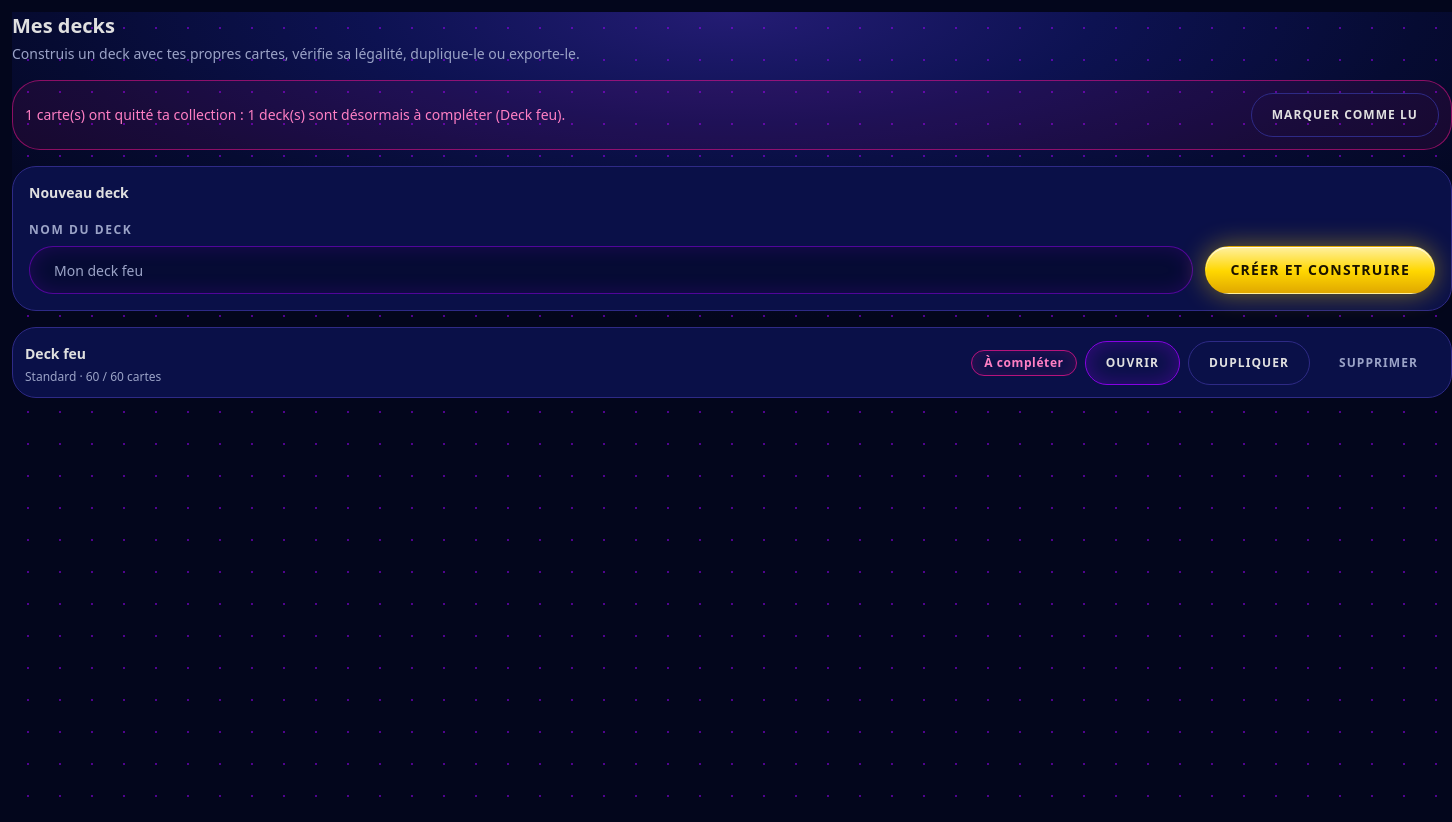
DecksListView › affiche un bandeau d'alertes de collection et le referme quand on marque lu
Expected: the message with test id "deck-alerts-notice" shows "Deck feu", left=500, top=105, right=557, bottom=124
Click the button "Marquer comme lu".
click(1345, 115)  # box left=1251, top=93, right=1439, bottom=137
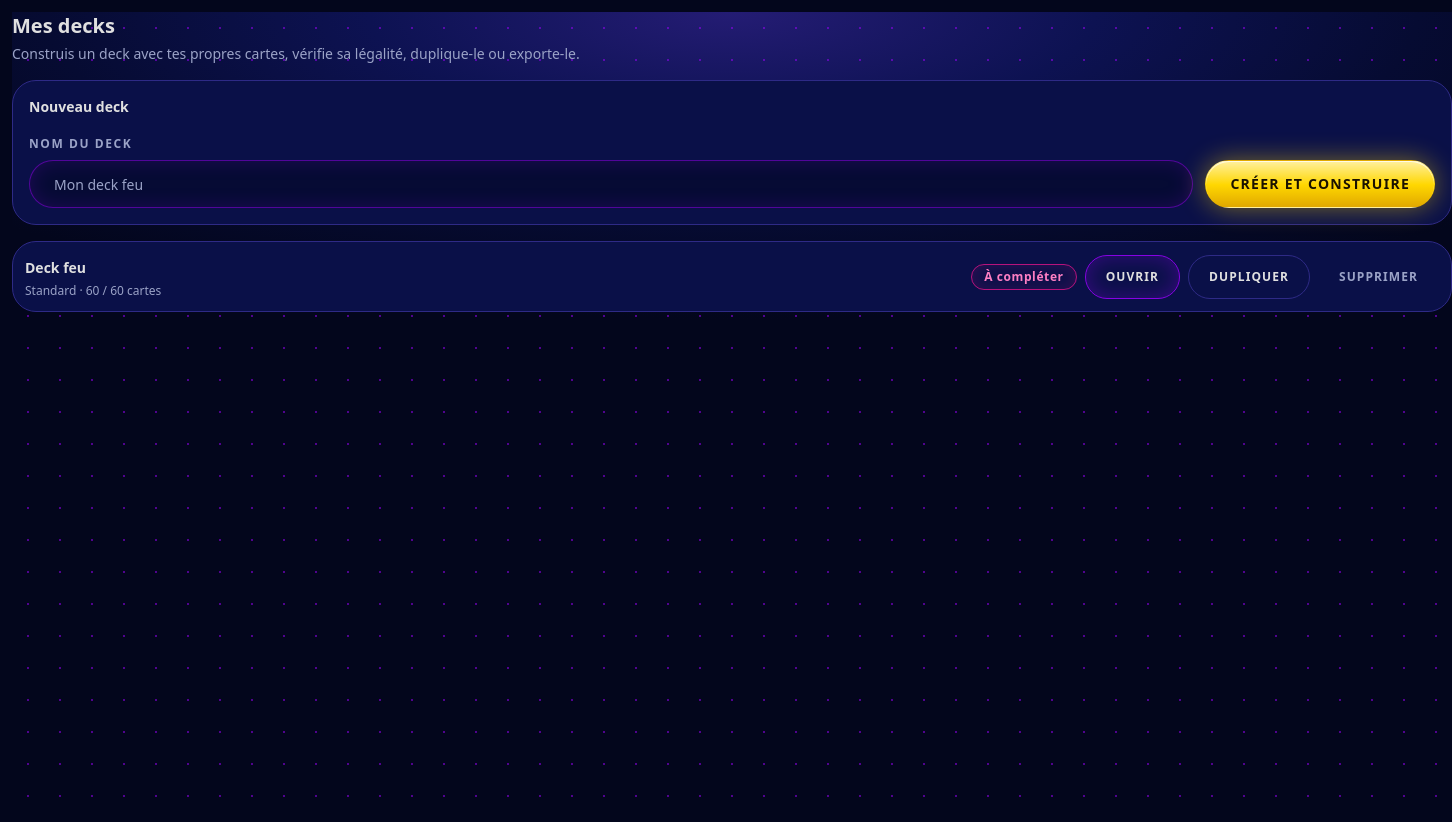
Expected: the message with test id "deck-alerts-notice" is gone
